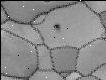good_void: (50, 22, 61, 33)
